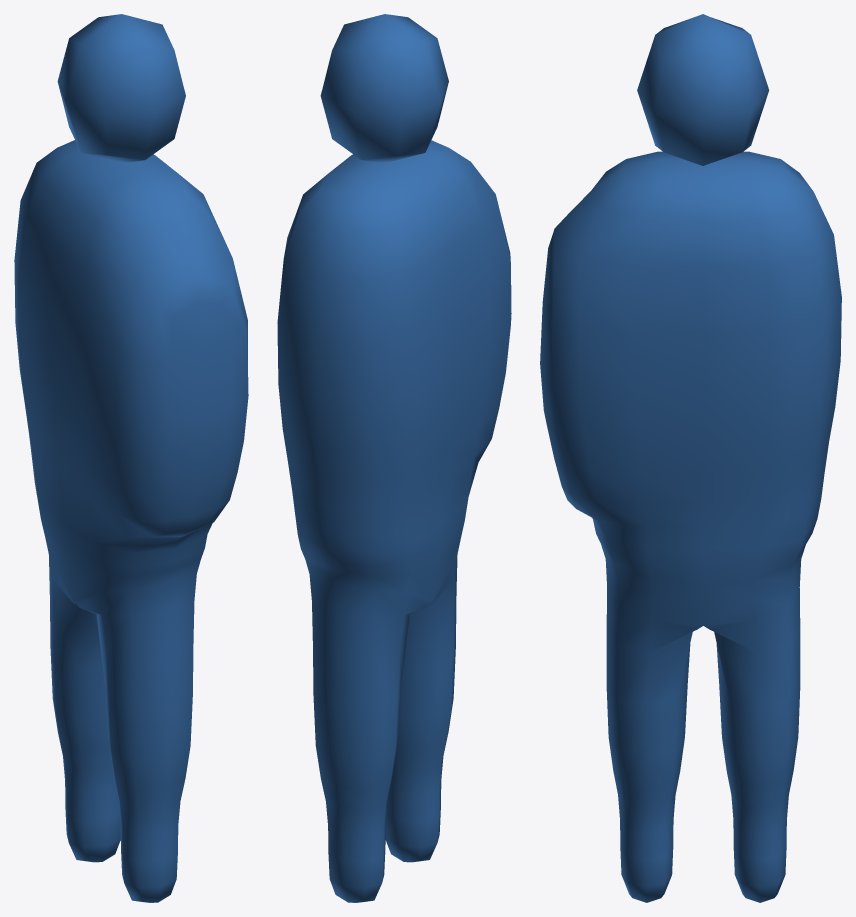
The model's file is sky person 2.fbx.
3 views of the same model, side by side, from view 1: azimuth 30°, elevation 25°; view 2: azimuth 150°, elevation 25°; view 3: azimuth 270°, elevation 25° (orthographic). The views are drawn at different scales.
Parts seen in each view (by area): view 1: Cube.015; view 2: Cube.015; view 3: Cube.015.
Boxes of the visible parts, <box> form: Cube.015: <box>14,14,248,902</box>; Cube.015: <box>277,14,511,902</box>; Cube.015: <box>540,14,841,902</box>.
Bounding box in the file's own units: 18.13 × 104 × 32.06.
